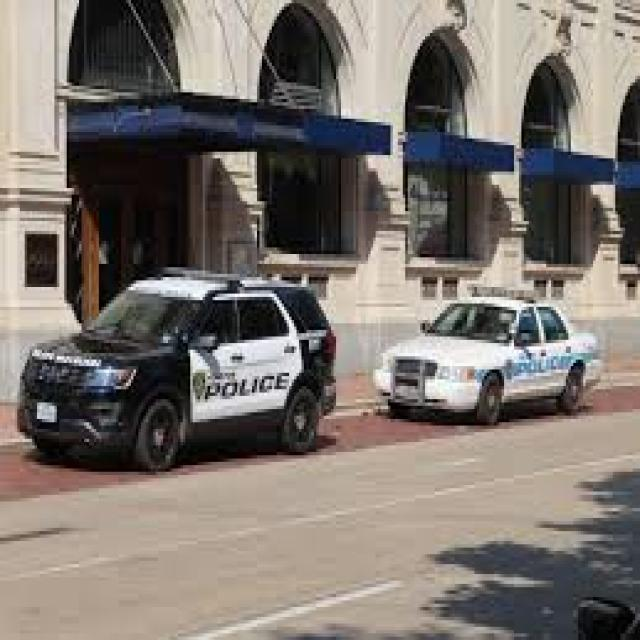cop: (19, 273, 338, 479), (374, 288, 608, 431)
